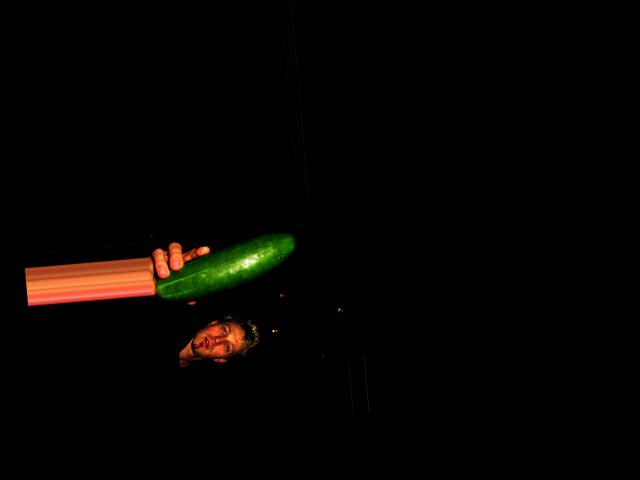cucumber: (153, 230, 299, 301)
